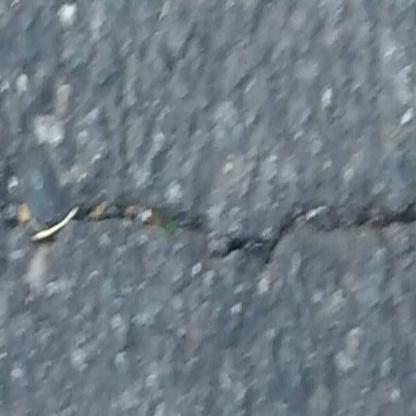Cracks: (0, 175, 416, 288)
